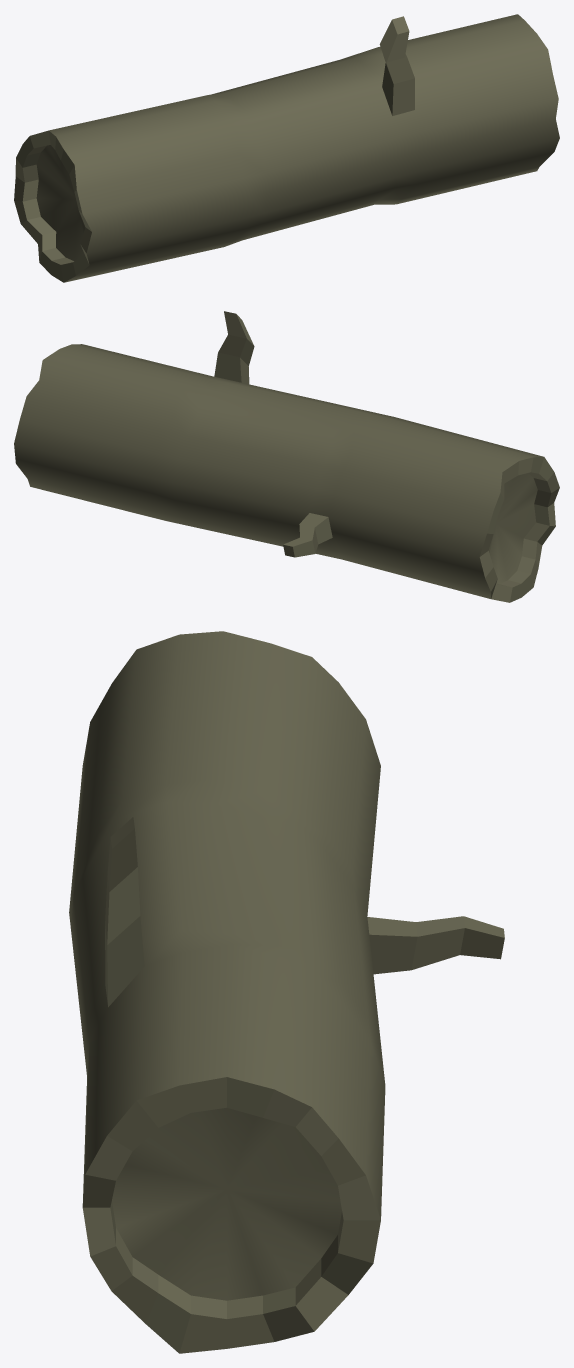
File: Branch1.fbx
3 renders of one model, top to bottom at view 1: azimuth 30°, elevation 25°; view 2: azimuth 150°, elevation 25°; view 3: azimuth 270°, elevation 25°, orthographic. The views are drawn at different scales.
Visible parts, largest first — view 1: Branch1; view 2: Branch1; view 3: Branch1.
Boxes of the visible parts, x1,y1,x2,y2 form: Branch1: (14,14,559,282); Branch1: (14,311,559,602); Branch1: (69,631,504,1353).
Size of the model in its own units: 3.85 by 1.51 by 1.53.
